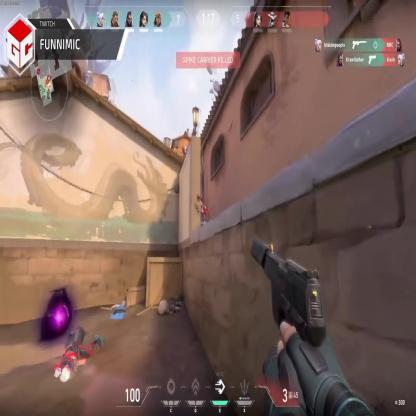enemy: (199, 197, 206, 227)
enemy_head: (200, 198, 203, 206)
